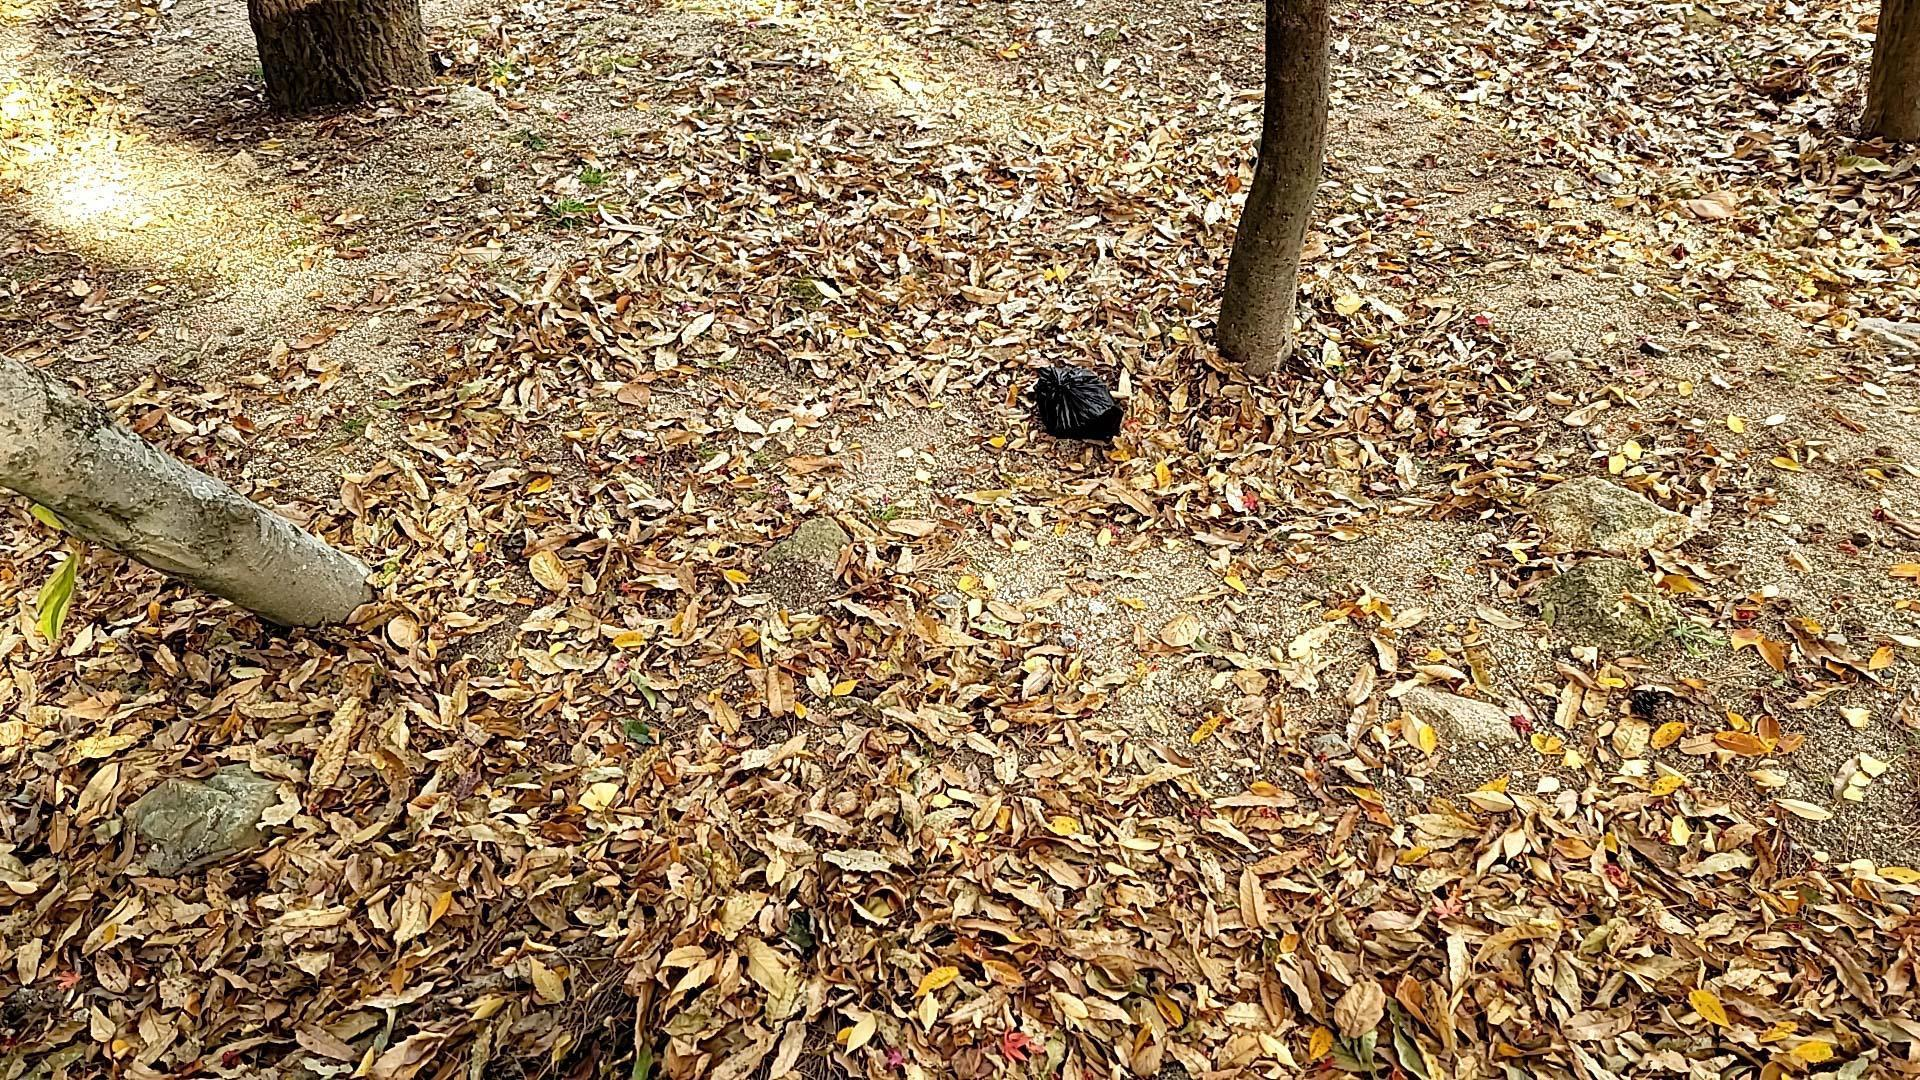black_bag: (1027, 360, 1124, 446)
